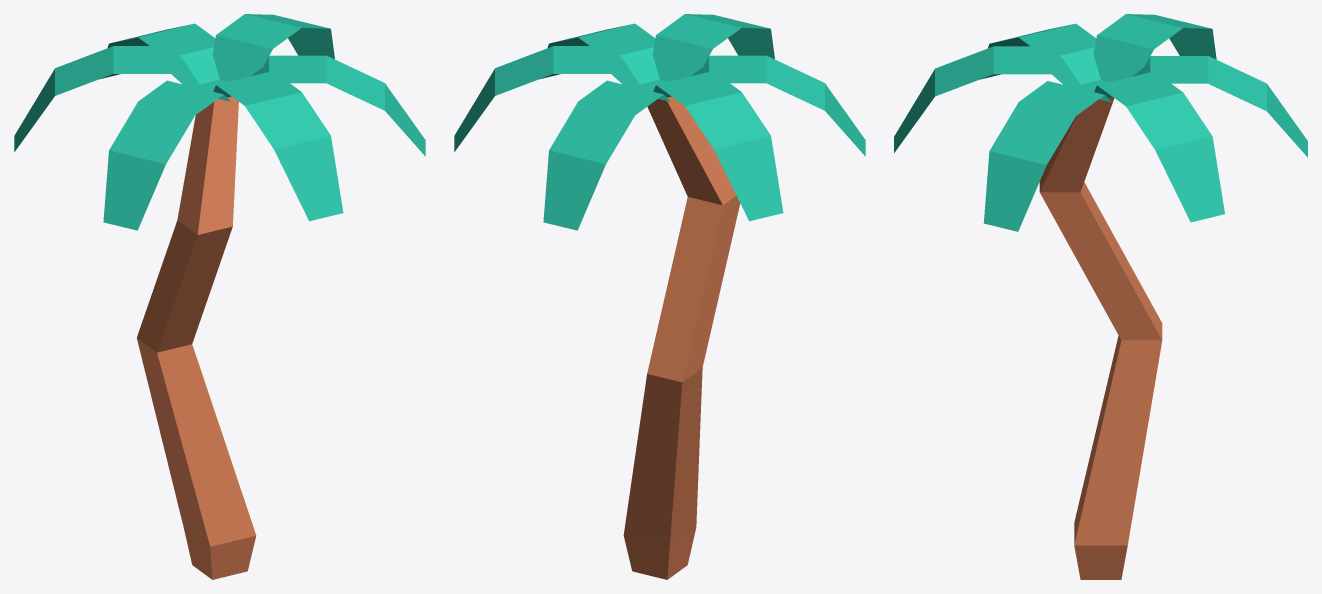
File: tree_palmBend.obj
3 renders of one model, left to right at view 1: azimuth 30°, elevation 25°; view 2: azimuth 150°, elevation 25°; view 3: azimuth 270°, elevation 25°, orthographic.
Visible parts, largest first — view 1: tree_palmBend; view 2: tree_palmBend; view 3: tree_palmBend.
Boxes of the visible parts, x1,y1,x2,y2 form: tree_palmBend: (14,14,425,579); tree_palmBend: (454,14,865,579); tree_palmBend: (894,14,1307,579).
Size of the model in its own units: 0.9355 by 1.38 by 1.01.
